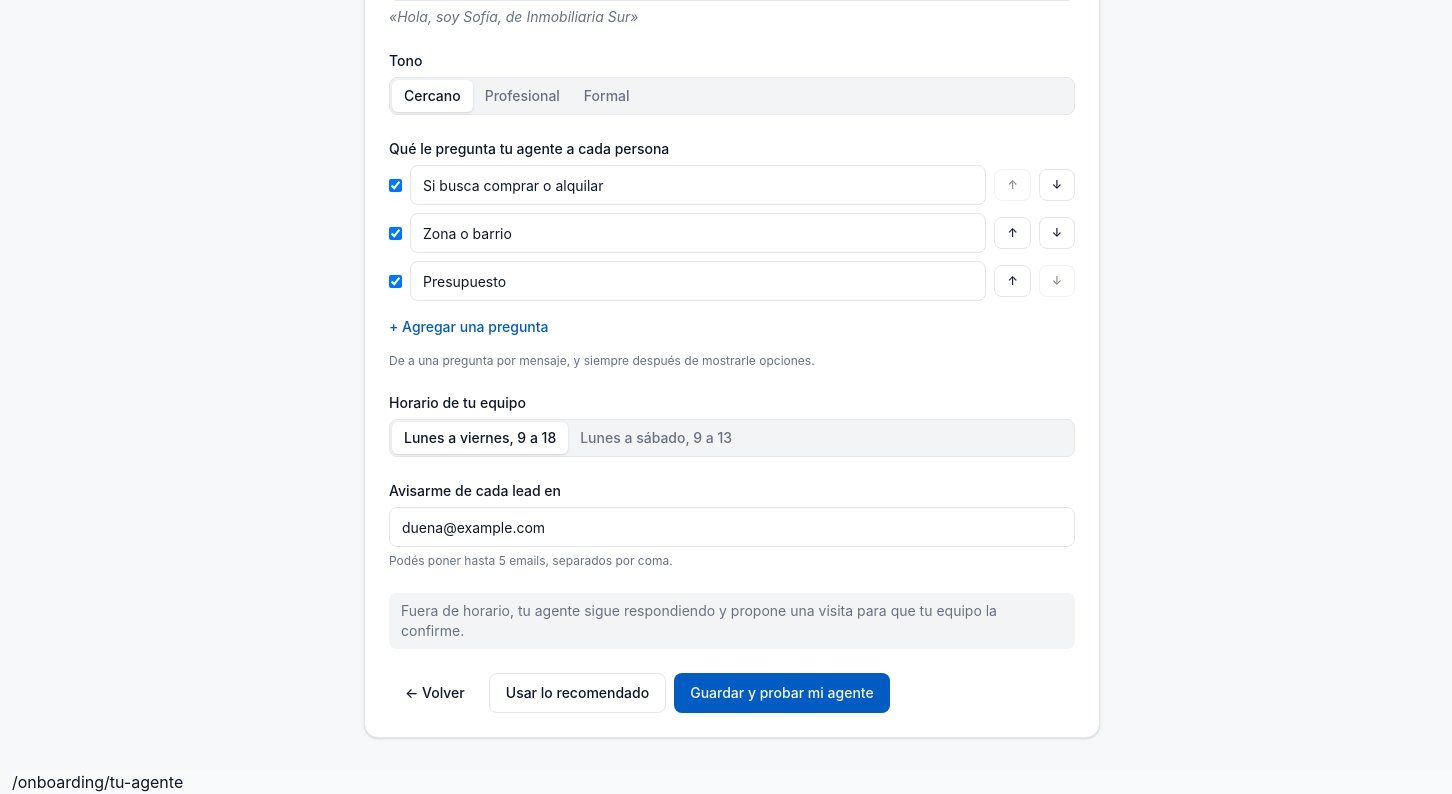
Test: OnboardingPage › saves the agent and advances to Probalo
(page scrolled)
Click the button "Guardar y probar mi agente" at (782, 693), box [674,673,890,713]
(page scrolled)
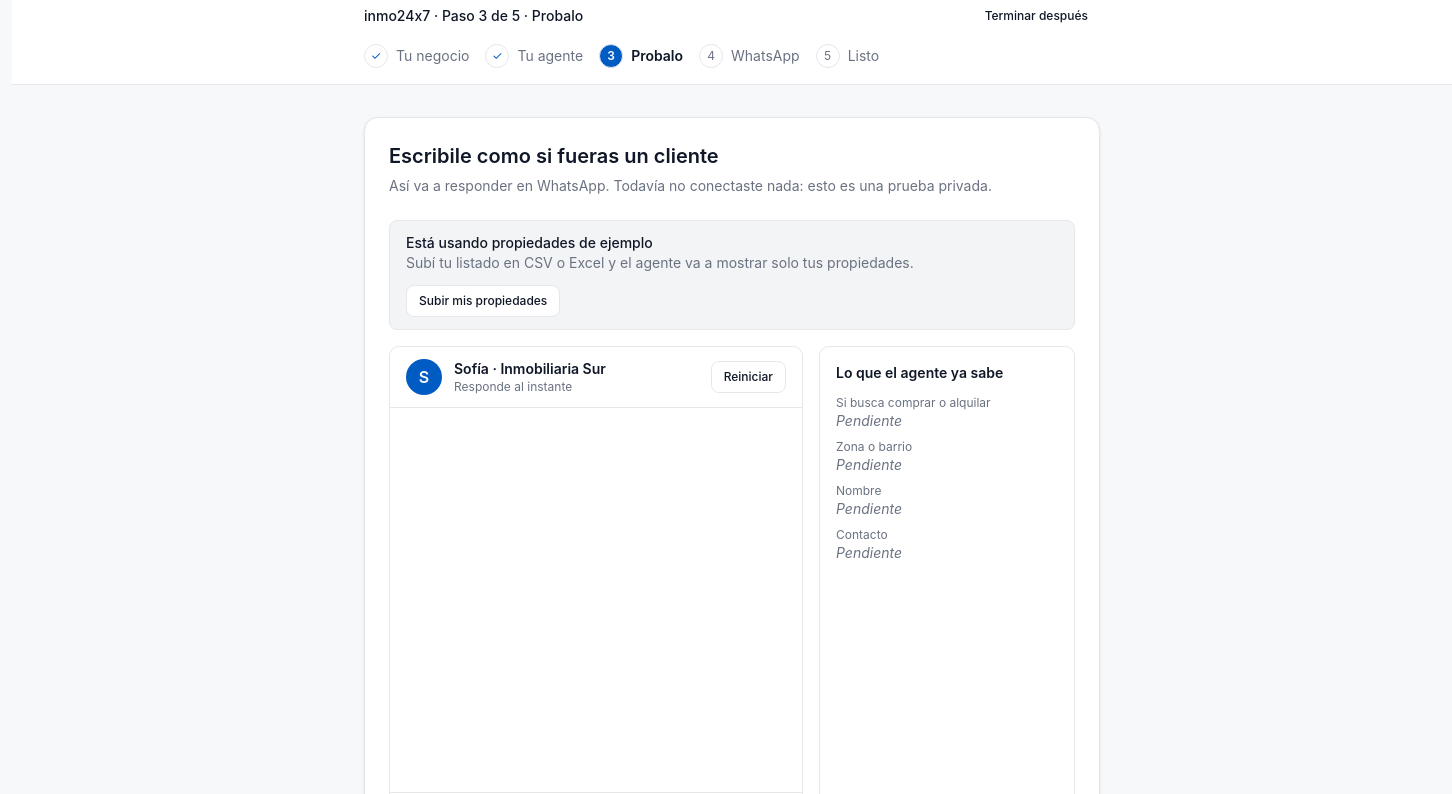
Check: the text "Escribile como si fueras un cliente" is shown, box [389,144,719,168]
